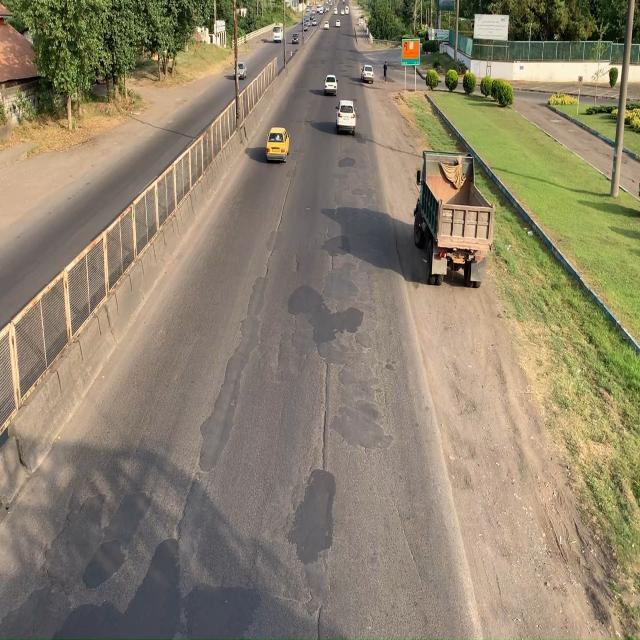Truck: (415, 148, 494, 286)
cars: (265, 127, 290, 163)
